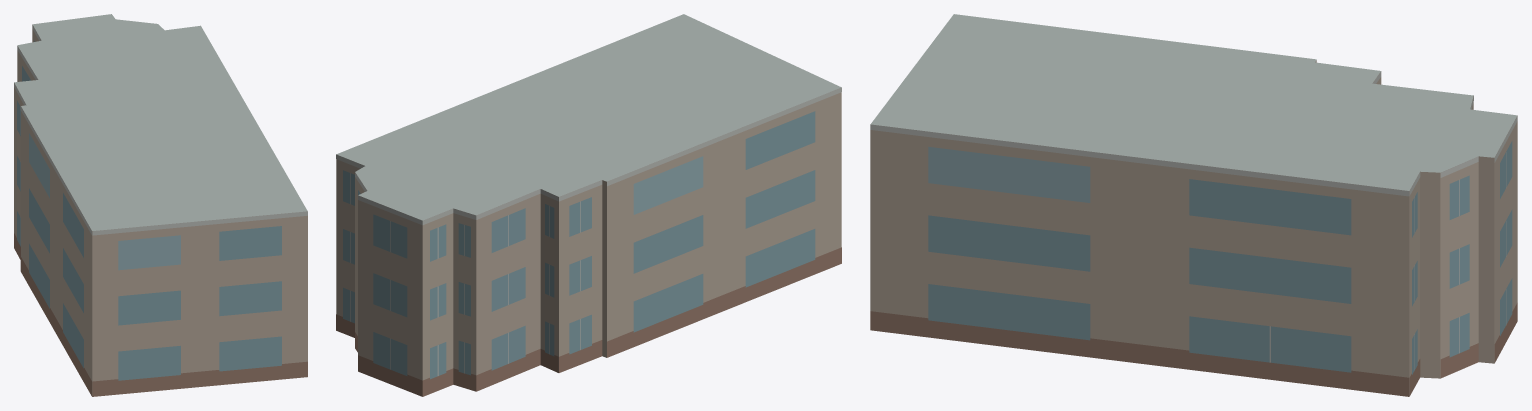
File: survey-upis-32820092.glb
3 renders of one model, left to right at view 1: azimuth 30°, elevation 25°; view 2: azimuth 150°, elevation 25°; view 3: azimuth 270°, elevation 25°, orthographic. The views are drawn at different scales.
Parts seen in each view (by area): view 1: survey-upis-32820092.tmp; view 2: survey-upis-32820092.tmp; view 3: survey-upis-32820092.tmp.
Boxes of the visible parts, x1=… form: survey-upis-32820092.tmp: x1=14, y1=14, x2=307, y2=396; survey-upis-32820092.tmp: x1=336, y1=14, x2=841, y2=396; survey-upis-32820092.tmp: x1=870, y1=14, x2=1517, y2=396.
Size of the model in its own units: 16.88 by 9.15 by 26.08.
